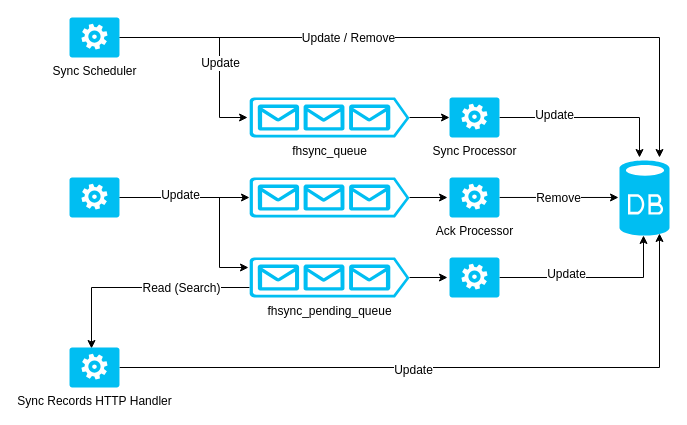
Image size: 687x425. Some labels were removed from this diagram. The centre of each missing label's shape, as x and y in pixels:
fhsync_ack_queue: (329,197)
Pending Processor: (474,277)
Sync HTTP Handler: (94,197)
